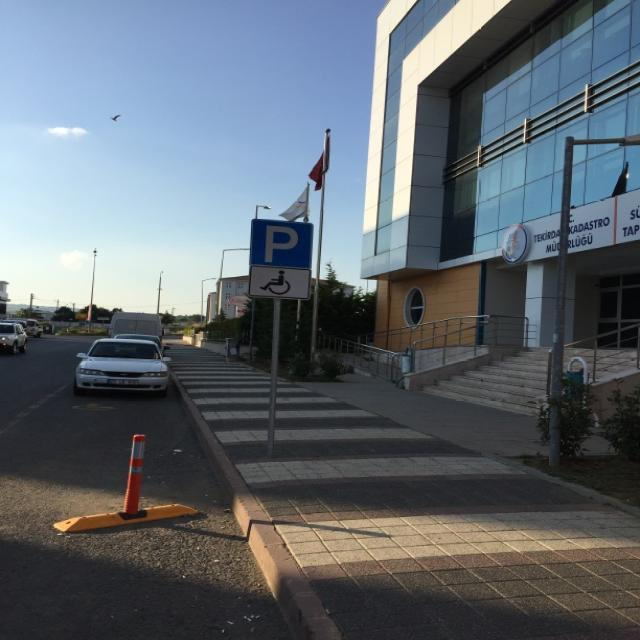park: (248, 217, 317, 269)
